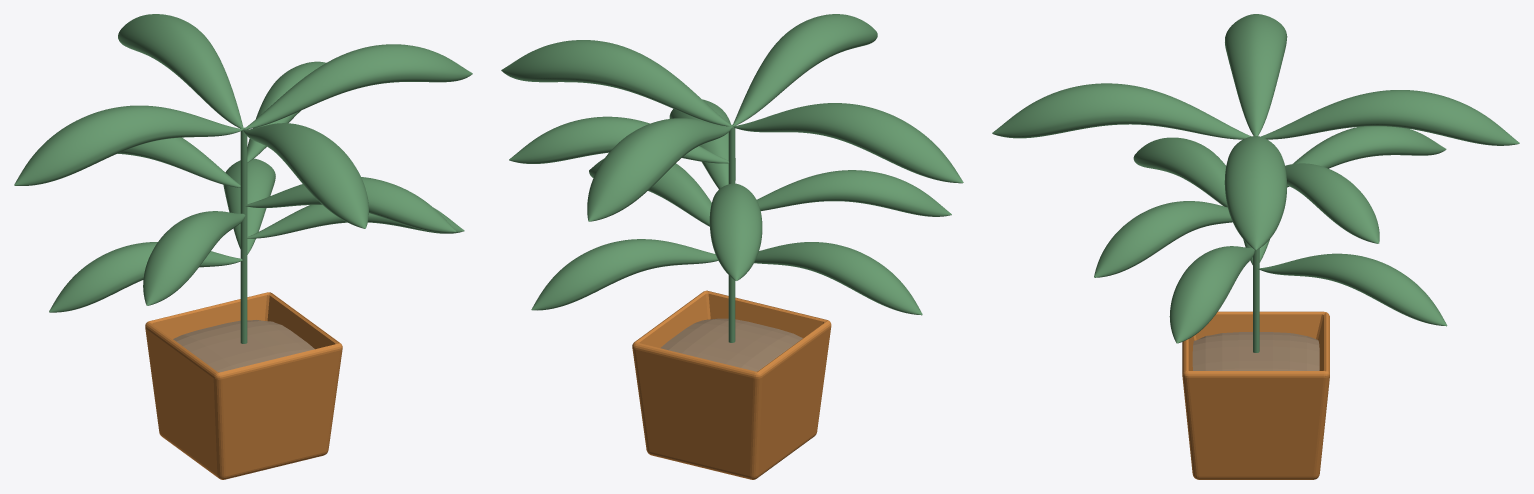
File: Planta1.fbx
3 renders of one model, left to right at view 1: azimuth 30°, elevation 25°; view 2: azimuth 150°, elevation 25°; view 3: azimuth 270°, elevation 25°, orthographic.
Parts seen in each view (by area): view 1: Cilindro; view 2: Cilindro; view 3: Cilindro.
Boxes of the visible parts, x1,y1,x2,y2 form: Cilindro: (14, 14, 472, 479); Cilindro: (501, 14, 963, 479); Cilindro: (992, 14, 1519, 479).
Size of the model in its own units: 837 by 640 by 837.
